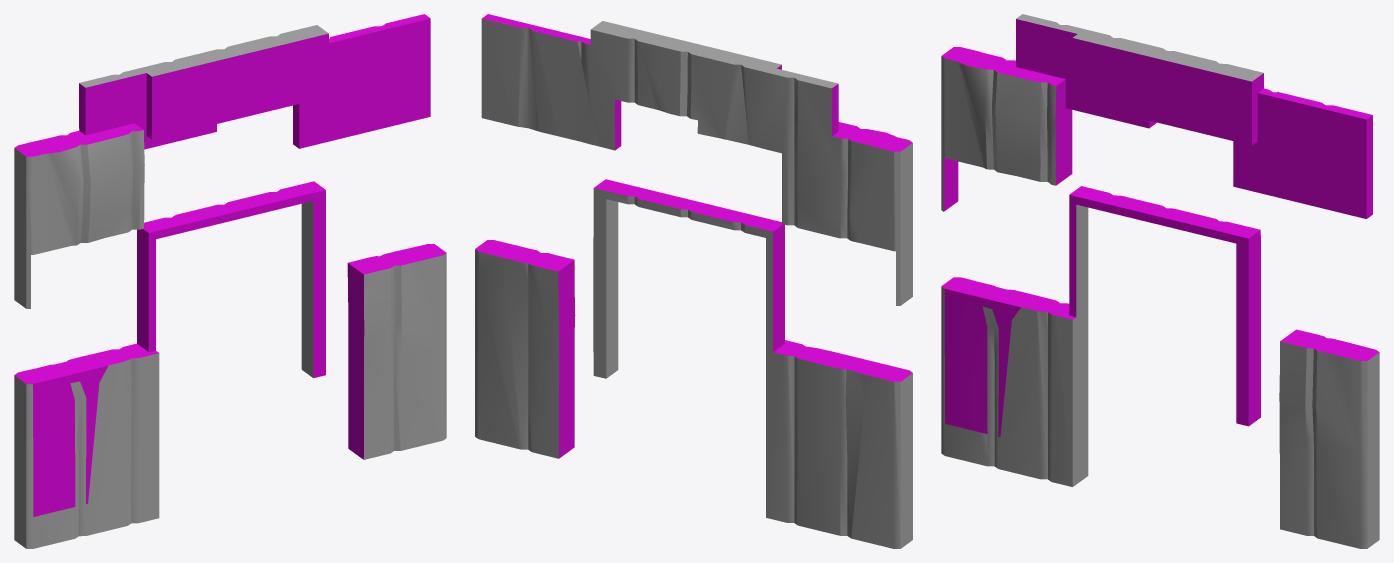
Rendered from Wall_Door_Glitch.fbx.
3 renders of one model, left to right at view 1: azimuth 30°, elevation 25°; view 2: azimuth 150°, elevation 25°; view 3: azimuth 330°, elevation 25°, orthographic.
Visible parts, largest first — view 1: Wall_Door_Glitch; view 2: Wall_Door_Glitch; view 3: Wall_Door_Glitch.
Boxes of the visible parts, x1=… form: Wall_Door_Glitch: x1=14, y1=14, x2=446, y2=548; Wall_Door_Glitch: x1=475, y1=14, x2=912, y2=548; Wall_Door_Glitch: x1=941, y1=14, x2=1379, y2=548.
Size of the model in its own units: 4 by 4 by 0.3354.
